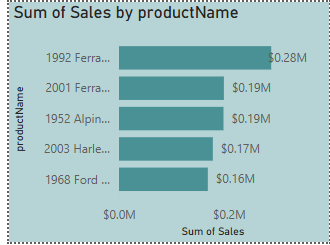

The dashboard page shown, as its layout file describes it:
{"tool":"powerbi","page":{"name":"tp1","canvas":[320,240],"ordinal":1},"visuals":[{"type":"barChart","fields":{"Category":["products.productName"],"Y":["Sum(order details.Sales)"]},"box":[20,0,280,220],"z":0}]}

Visuals, with their boxes in screenshot pixels (x1, y1, x2, y2), scaled from the page's 320x240 canvas onto the 330x245 screenshot:
barChart - products.productName x Sum(order details.Sales): bbox=[21, 0, 309, 225]
